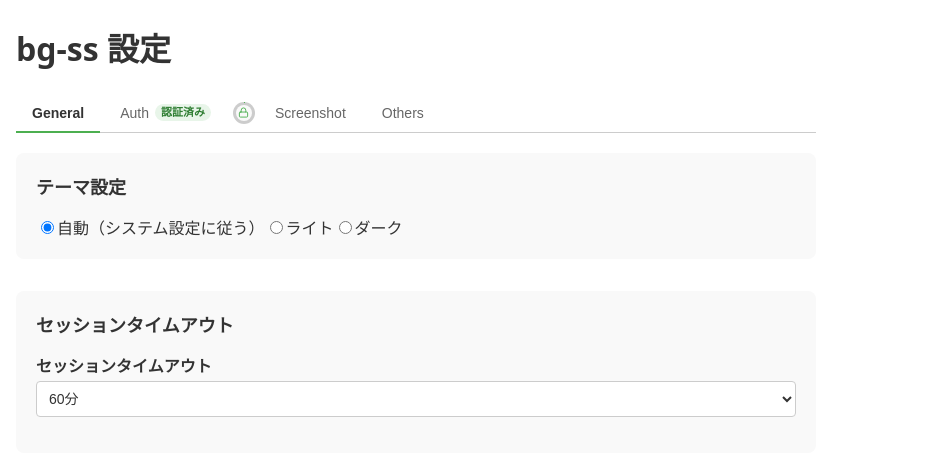
Test case: Options App › 設定管理 › 設定保存成功時にメッセージが表示される
セッションタイムアウト select を変更（@change で即時保存 + インライン通知）
Select "60分" in the dropdown with class "select-input" at (416, 399), box [36,381,796,417]
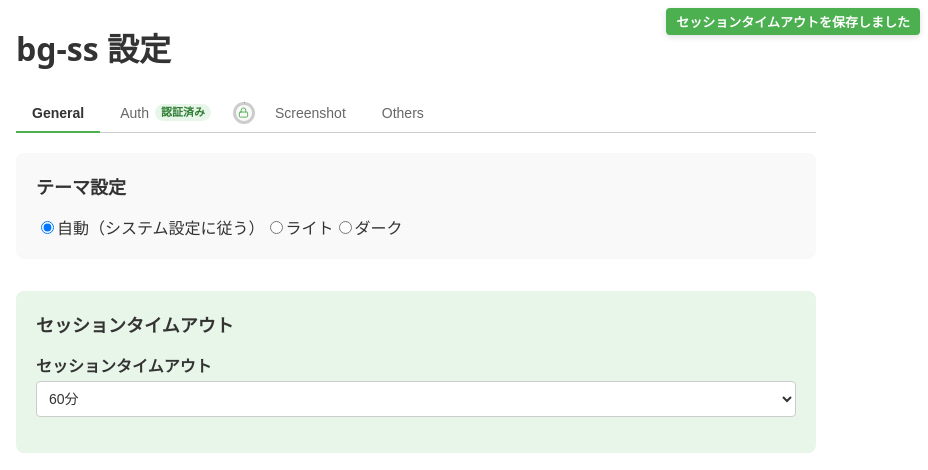
Expected: the text "セッションタイムアウトを保存しました" is shown, [666,8,920,35]
